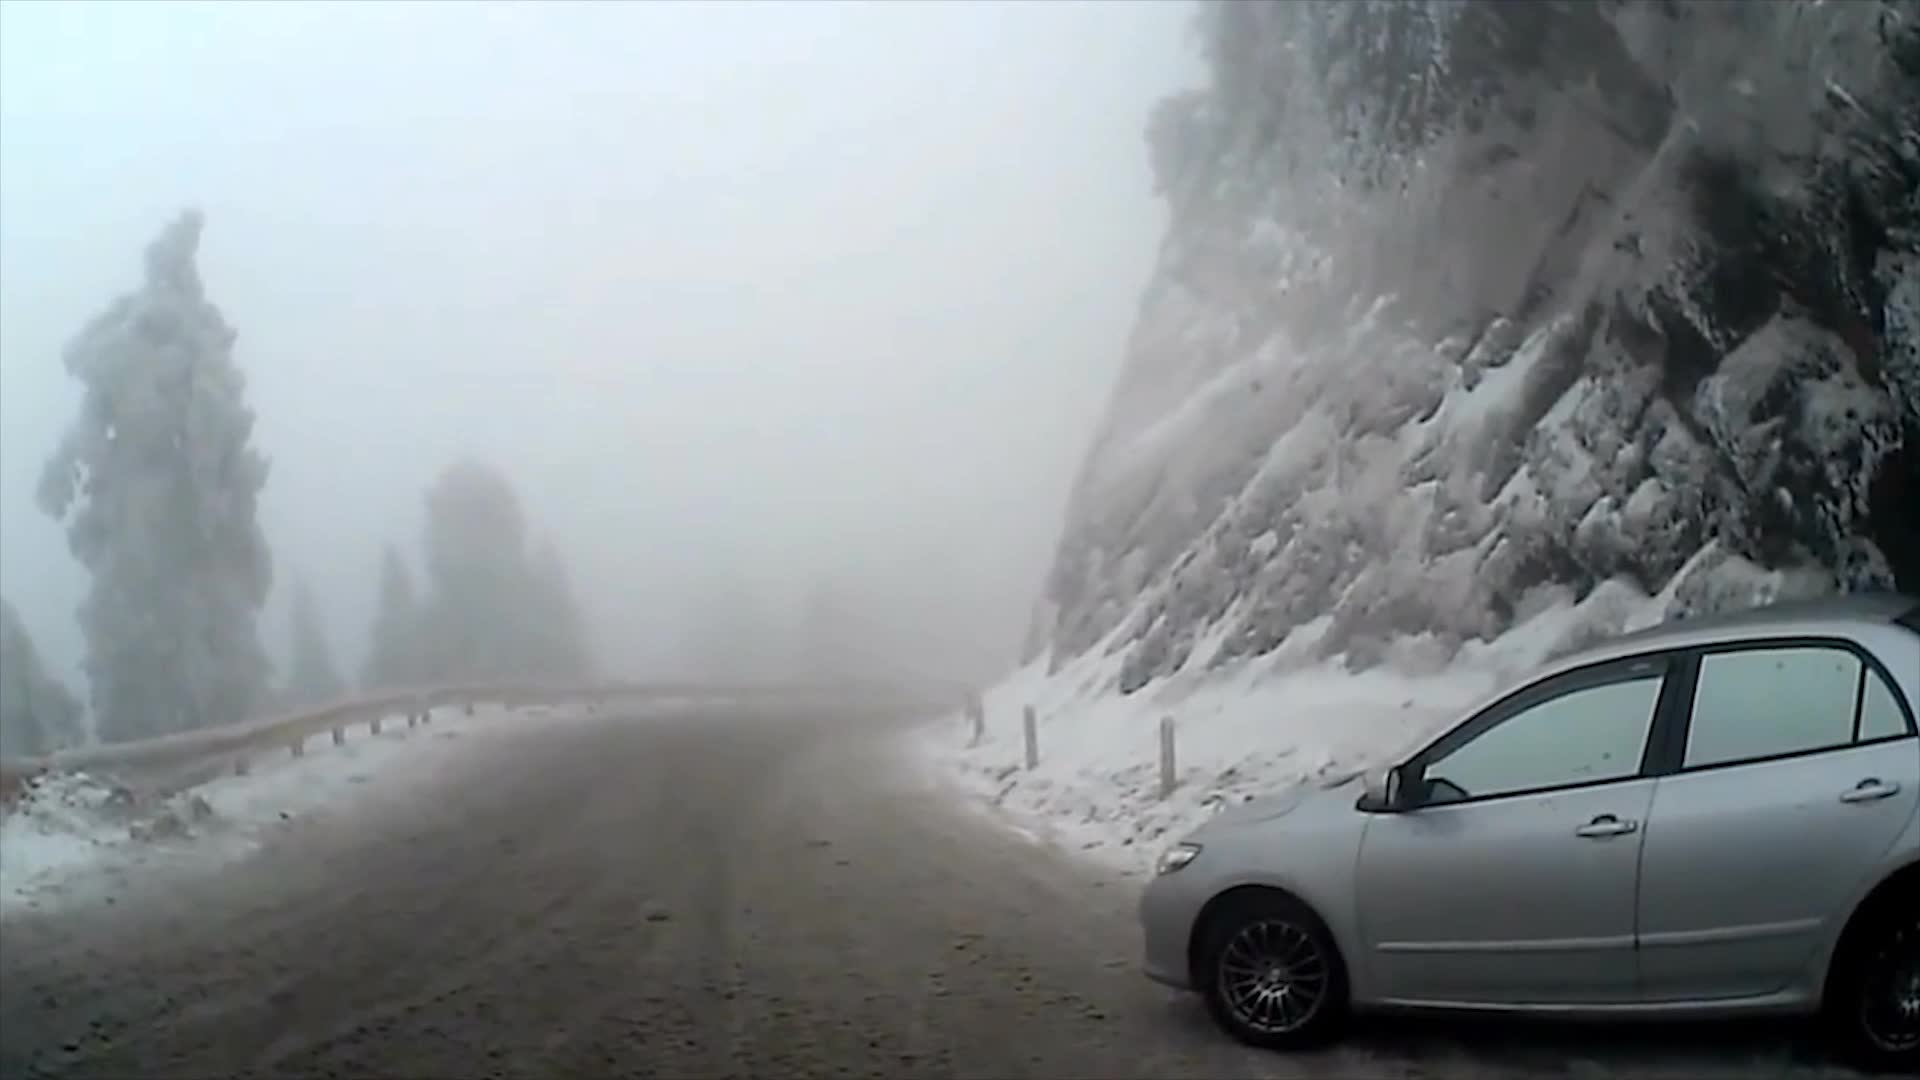vehicle: (1134, 589, 1920, 1079)
